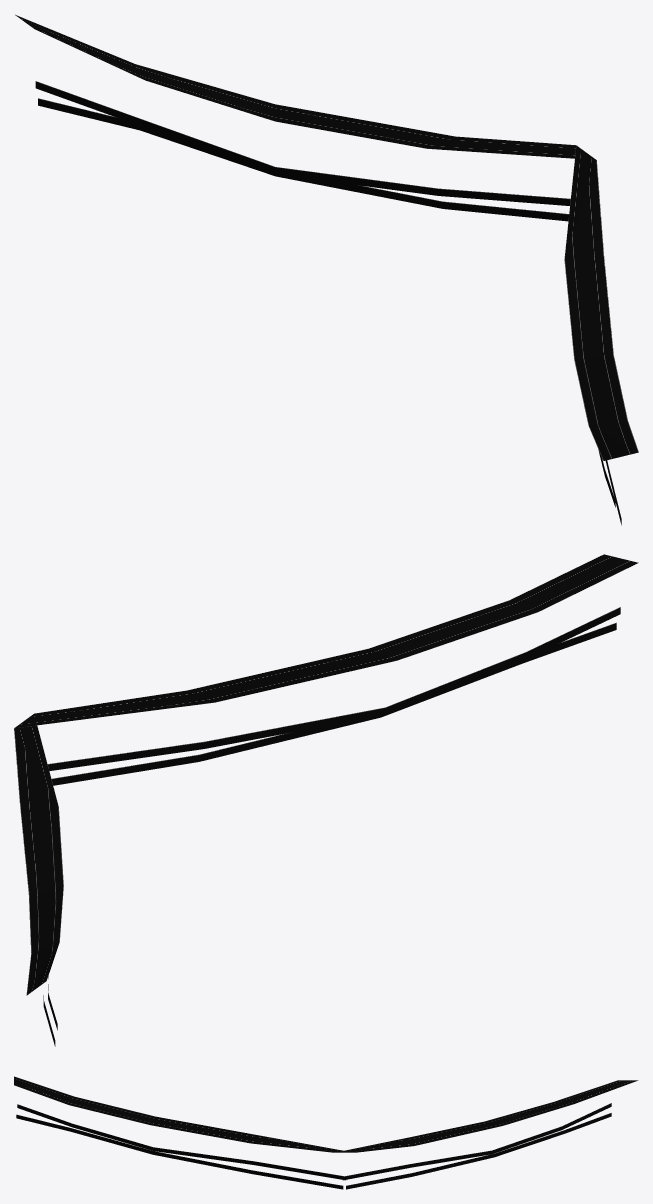
Rendered from vegastwires18.obj.
3 views of the same model, one above another, from view 1: azimuth 30°, elevation 25°; view 2: azimuth 150°, elevation 25°; view 3: azimuth 270°, elevation 25° (orthographic). The views are drawn at different scales.
Visible parts, largest first — view 1: vegastwires18; view 2: vegastwires18; view 3: vegastwires18.
Part boxes in pixels (<box>): vegastwires18: <box>15,14,638,525</box>; vegastwires18: <box>14,554,638,1046</box>; vegastwires18: <box>14,1076,638,1189</box>.
Bounding box in the file's own units: 22.27 × 6.29 × 76.96.
Materials: 1 (1 with a texture image).
